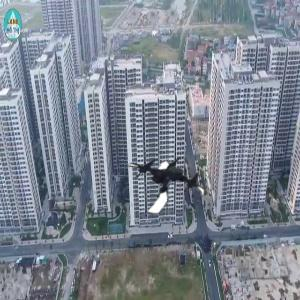drone: (126, 143, 206, 223)
